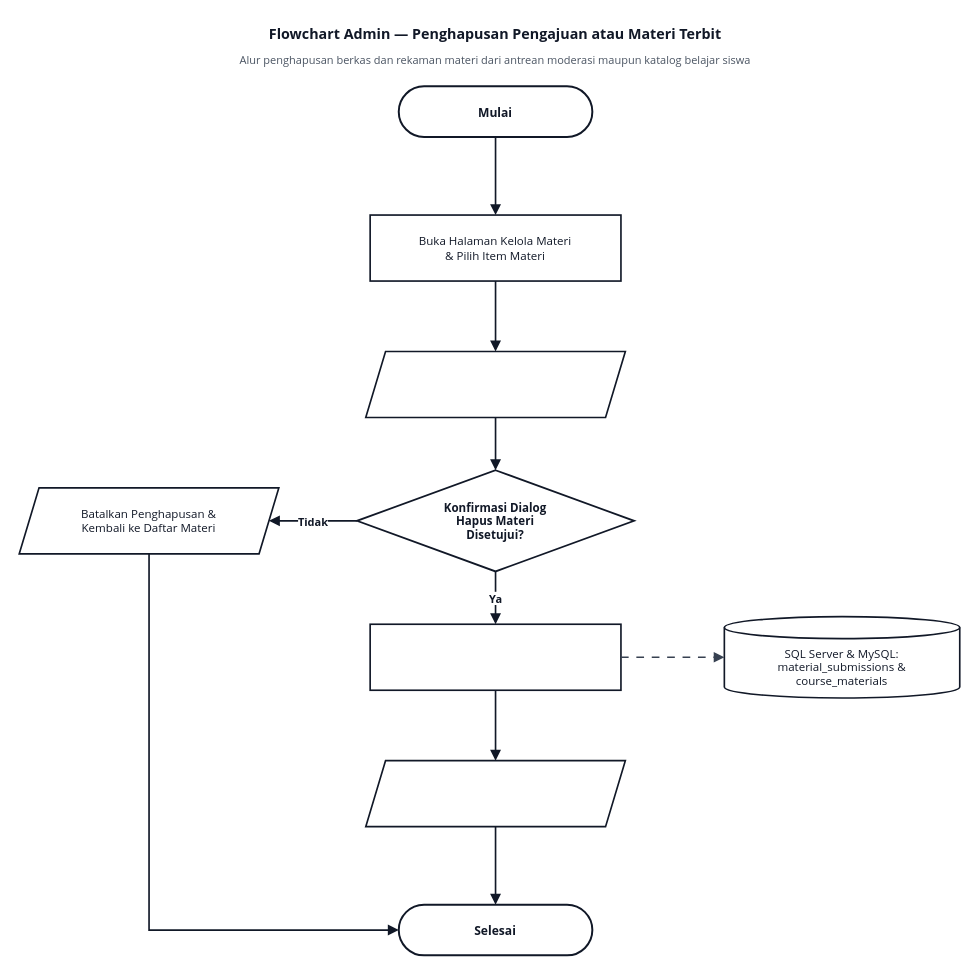
This 980x975 diagram has some shape labels left out. The shapes that lost their labels are listed below. From the top down, each one's centre as x and y in pixels, then its label:
At point 495,384: "Klik Tombol Hapus Materi atau Pilih Hapus Massal".
At point 495,657: "Hapus Berkas Fisik, Rekaman Pengajuan & Materi Terbit Siswa".
At point 495,793: "Tampilkan Notifikasi Materi Berhasil Dihapus".
